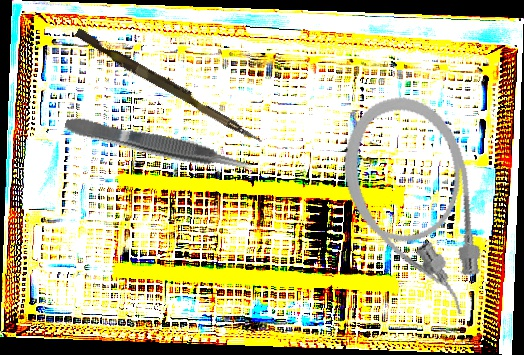Cannula: (328, 84, 502, 334)
Pusher: (71, 27, 268, 146)
Tissue Forceps: (62, 110, 255, 180)
